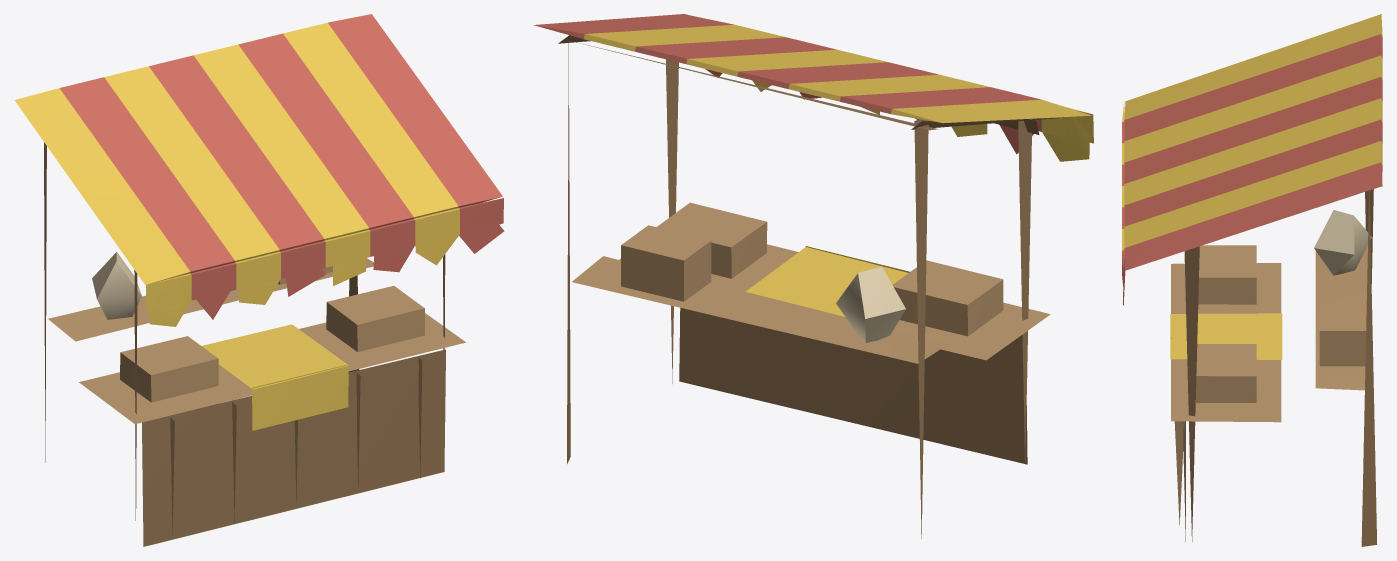
Rendered from generated.market_stall_gold.gltf.
3 views of the same model, side by side, from view 1: azimuth 30°, elevation 25°; view 2: azimuth 150°, elevation 25°; view 3: azimuth 270°, elevation 25° (orthographic). The views are drawn at different scales.
Visible parts, largest first — view 1: market_stall_gold; view 2: market_stall_gold; view 3: market_stall_gold.
Part boxes in pixels (x1=…): market_stall_gold: x1=14, y1=14, x2=504, y2=546; market_stall_gold: x1=533, y1=14, x2=1093, y2=538; market_stall_gold: x1=1122, y1=14, x2=1382, y2=546.
Bounding box in the file's own units: 2.61 × 2.65 × 1.68.
